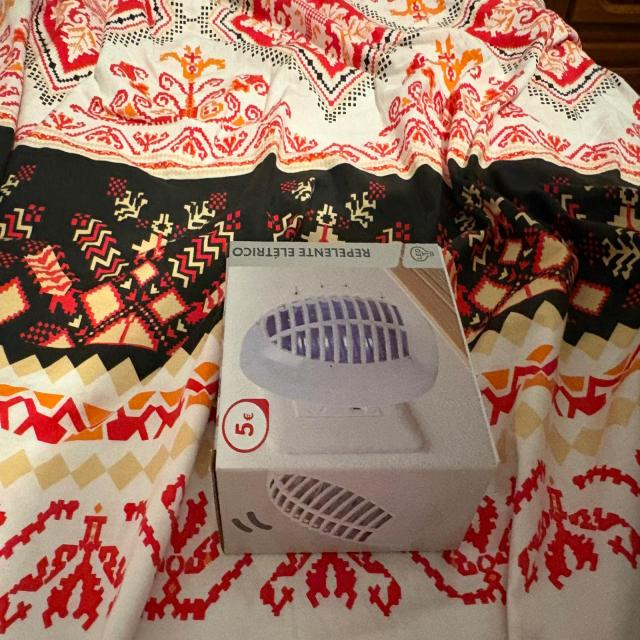good_package: (214, 242, 500, 550)
